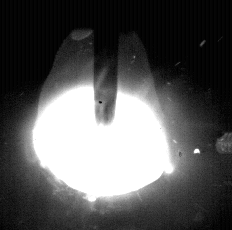arame: (94, 0, 119, 125)
poca: (31, 0, 168, 230)
